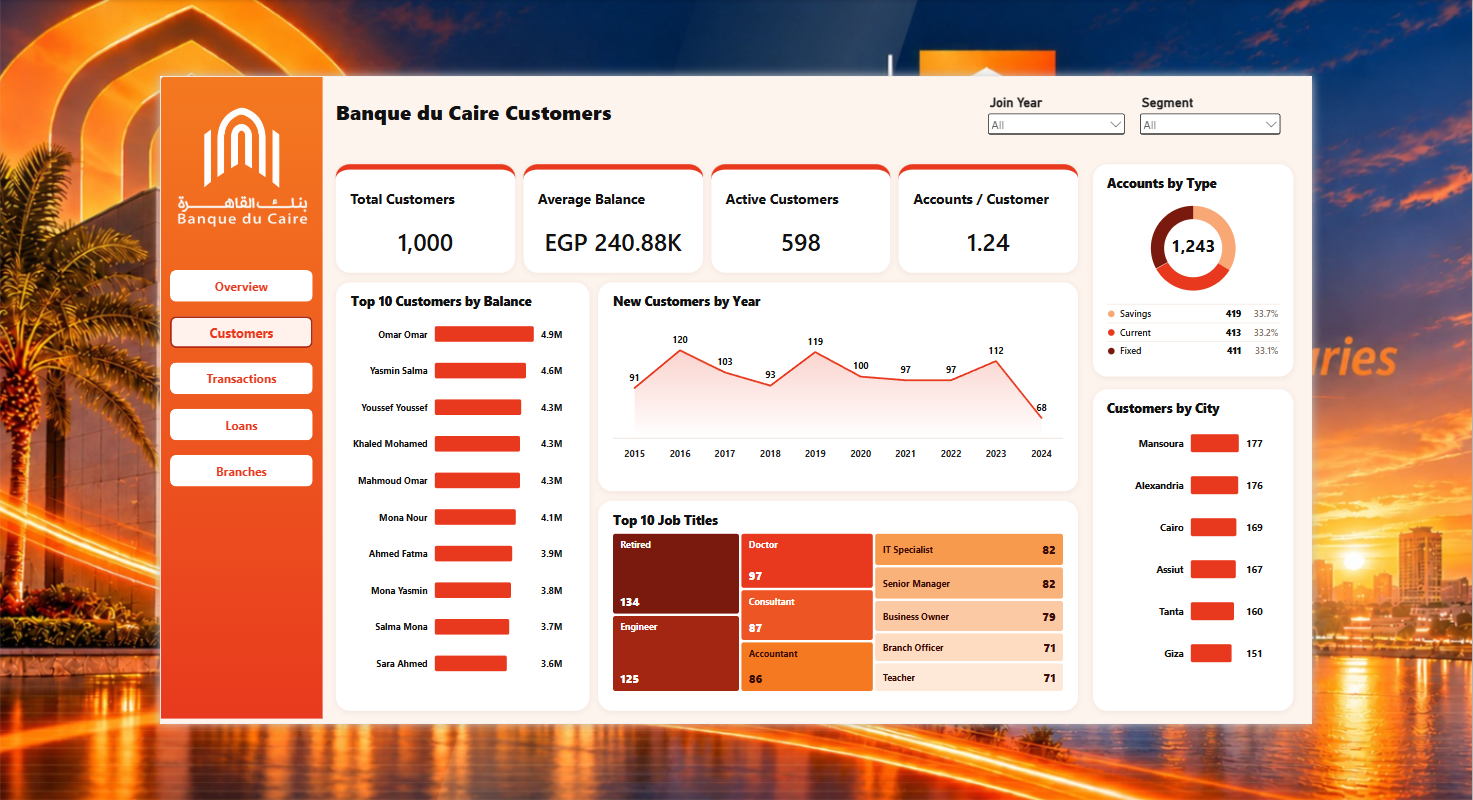

The dashboard page shown, as its layout file describes it:
{"tool":"powerbi","page":{"name":"Customers","canvas":[1920,1080],"ordinal":2},"visuals":[{"type":"htmlContent443BE3AD55E043BF878BED274D3A6855","fields":{"content":["Html.HTML Banque Customers2"]},"box":[0,0,1920,1080],"z":0},{"type":"slicer","fields":{"Values":["Customers Dim.Segment"]},"box":[1628.9,31.1,244.4,88.9],"z":1000},{"type":"image","box":[38.4,0,195,240.5],"z":2000},{"type":"image","box":[0,162.5,255,131.2],"z":3000},{"type":"slicer","fields":{"Values":["Customers Dim.Join Year"]},"box":[1374.9,31,238.4,103.7],"z":4000},{"type":"pageNavigator","box":[16.7,323.3,238.9,361.1],"z":5000}]}

Visuals, with their boxes on the page's 1920x1080 design canvas (x1, y1, x2, y2). These are canvas units, not pixel positions in the 1473x800 screenshot, which may show the page scaled, cropped or inside an application window:
htmlContent443BE3AD55E043BF878BED274D3A6855 - Html.HTML Banque Customers2: box=[0, 0, 1920, 1080]
slicer - Customers Dim.Segment: box=[1629, 31, 1873, 120]
image: box=[38, 0, 233, 240]
image: box=[0, 162, 255, 294]
slicer - Customers Dim.Join Year: box=[1375, 31, 1613, 135]
pageNavigator: box=[17, 323, 256, 684]
